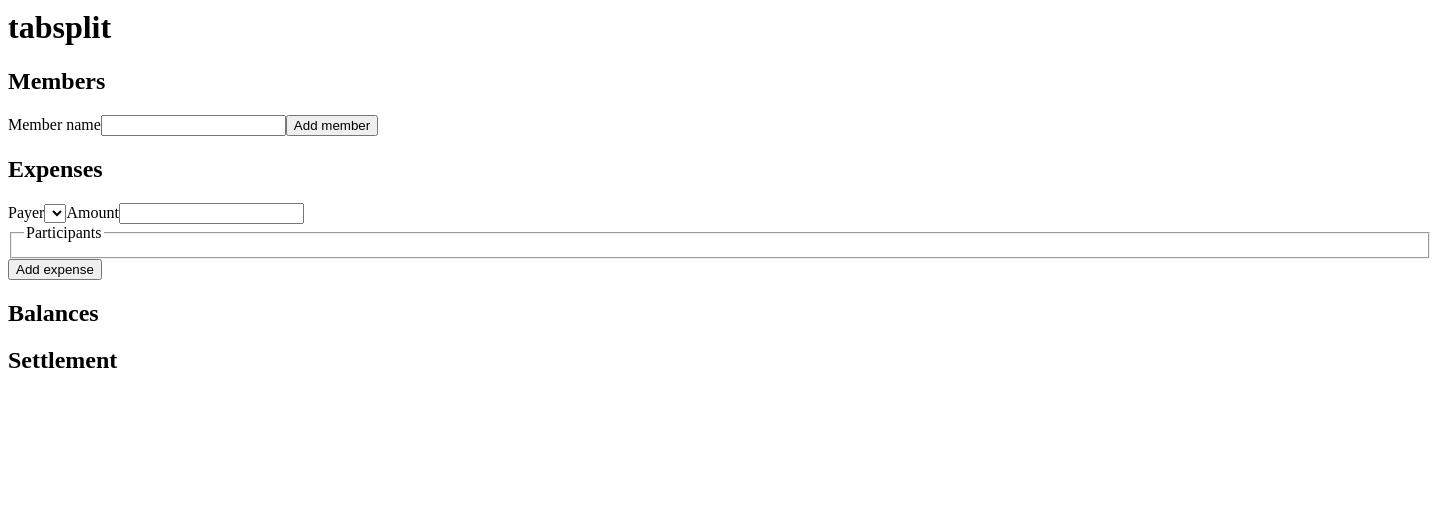
App › shows a message for an invalid amount and keeps the expense out
Type "Ann" into the field labelled "Member name".
click(193, 125); type("Ann")  # box [101,115,286,136]
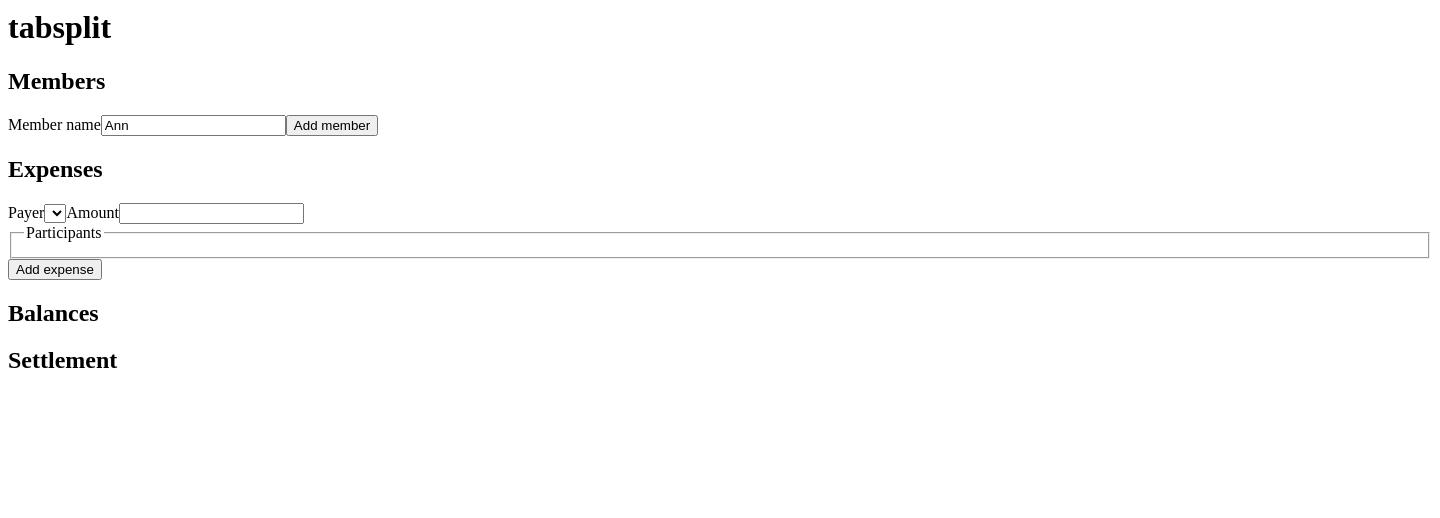
Click the button "Add member".
click(332, 125)  # box [286,115,378,136]
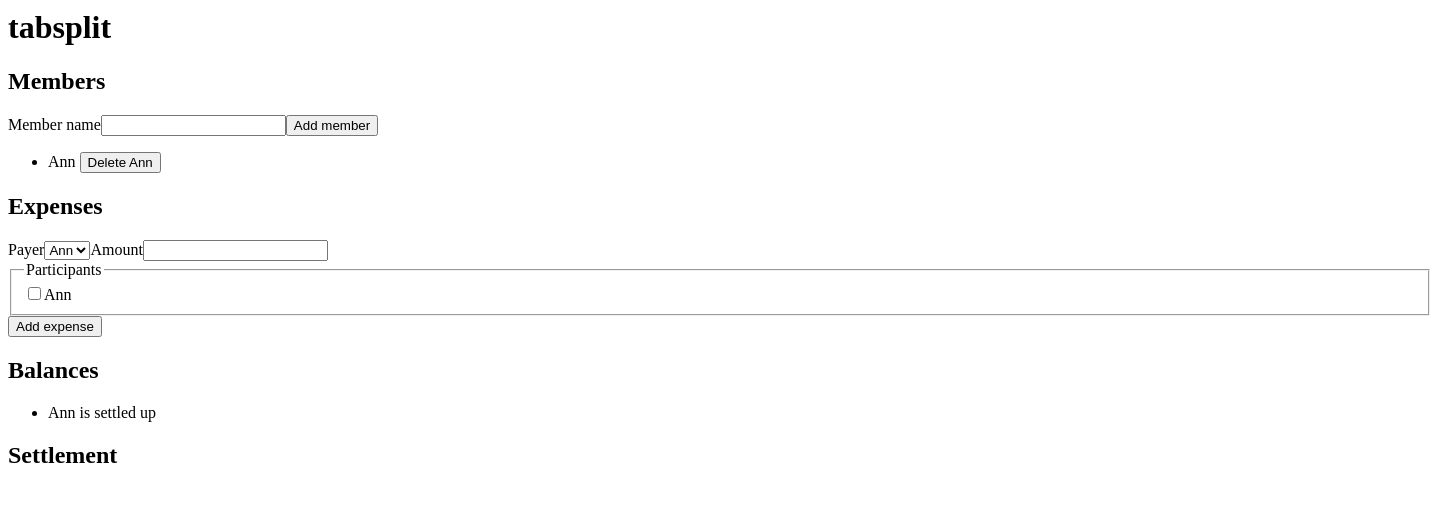
Select "Ann" in the dropdown labelled "Payer" at (67, 250), box [44,241,90,260]
Type "1.234" into the field labelled "Amount".
click(235, 250); type("1.234")  # box [143,240,328,261]
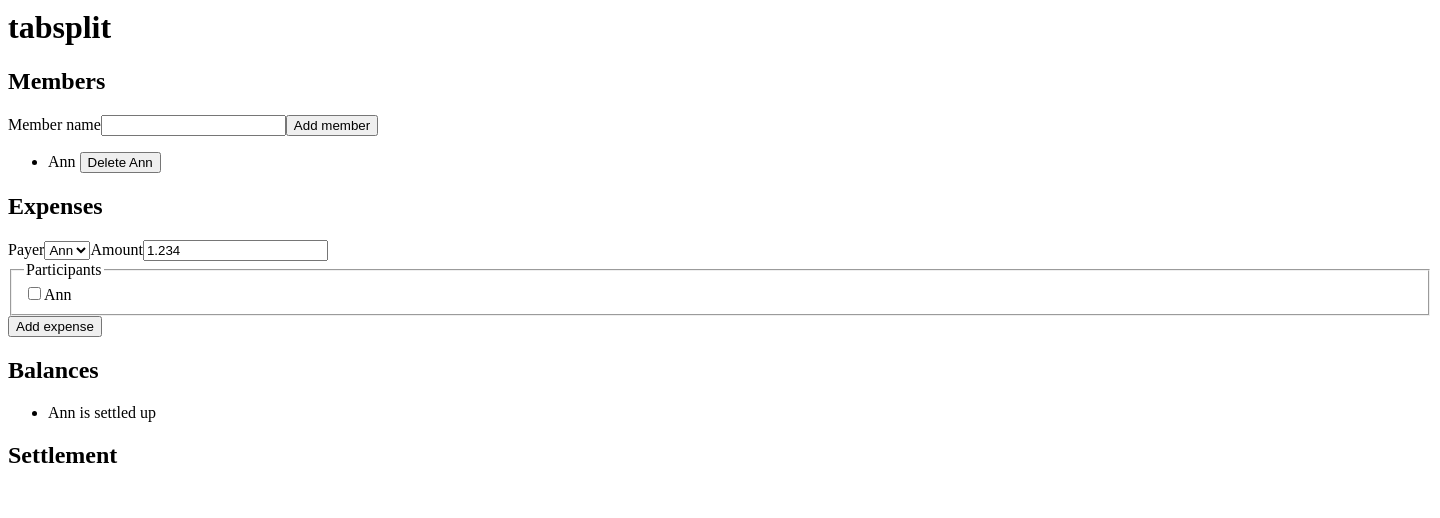
Click the checkbox labelled "Ann".
click(34, 294)  # box [28,287,41,300]
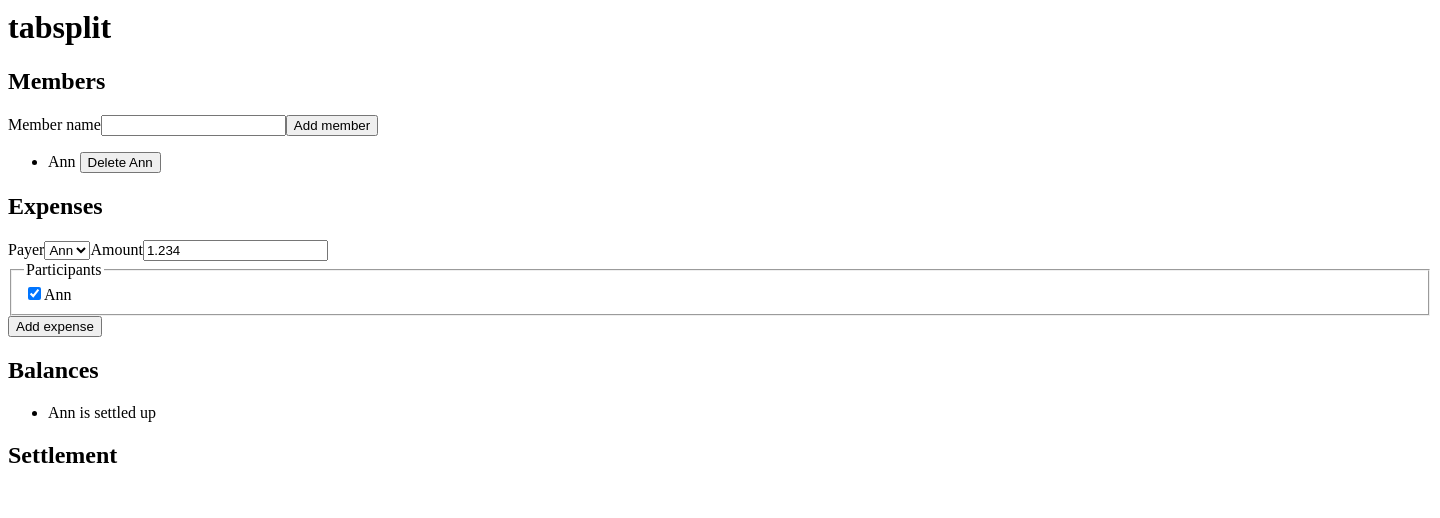
Click the button "Add expense".
click(55, 327)  # box [8,316,102,337]
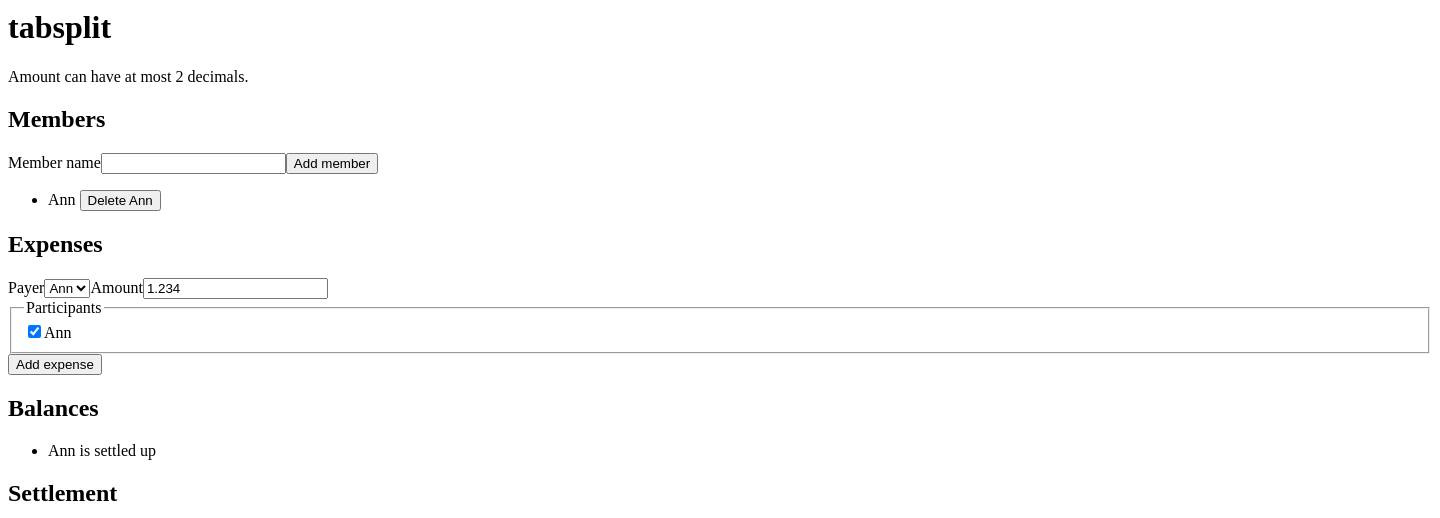
Now the message reads "Amount can have at most 2 decimals.", box [8,68,248,85]
